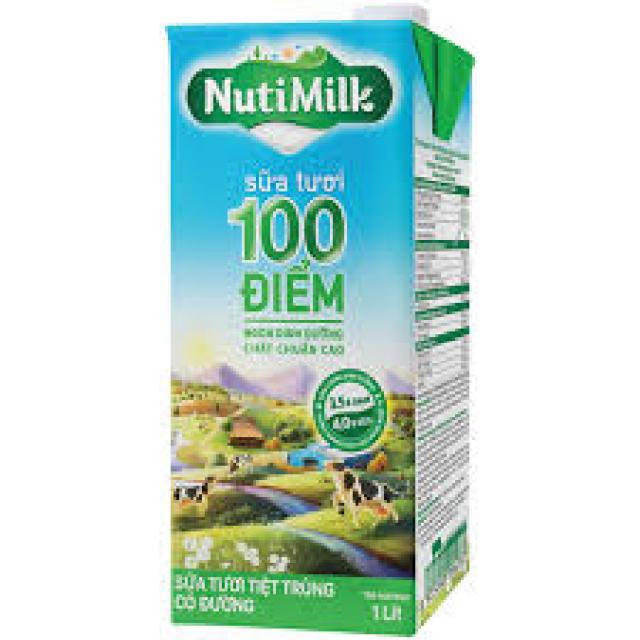non_white_jug: (147, 12, 499, 637)
